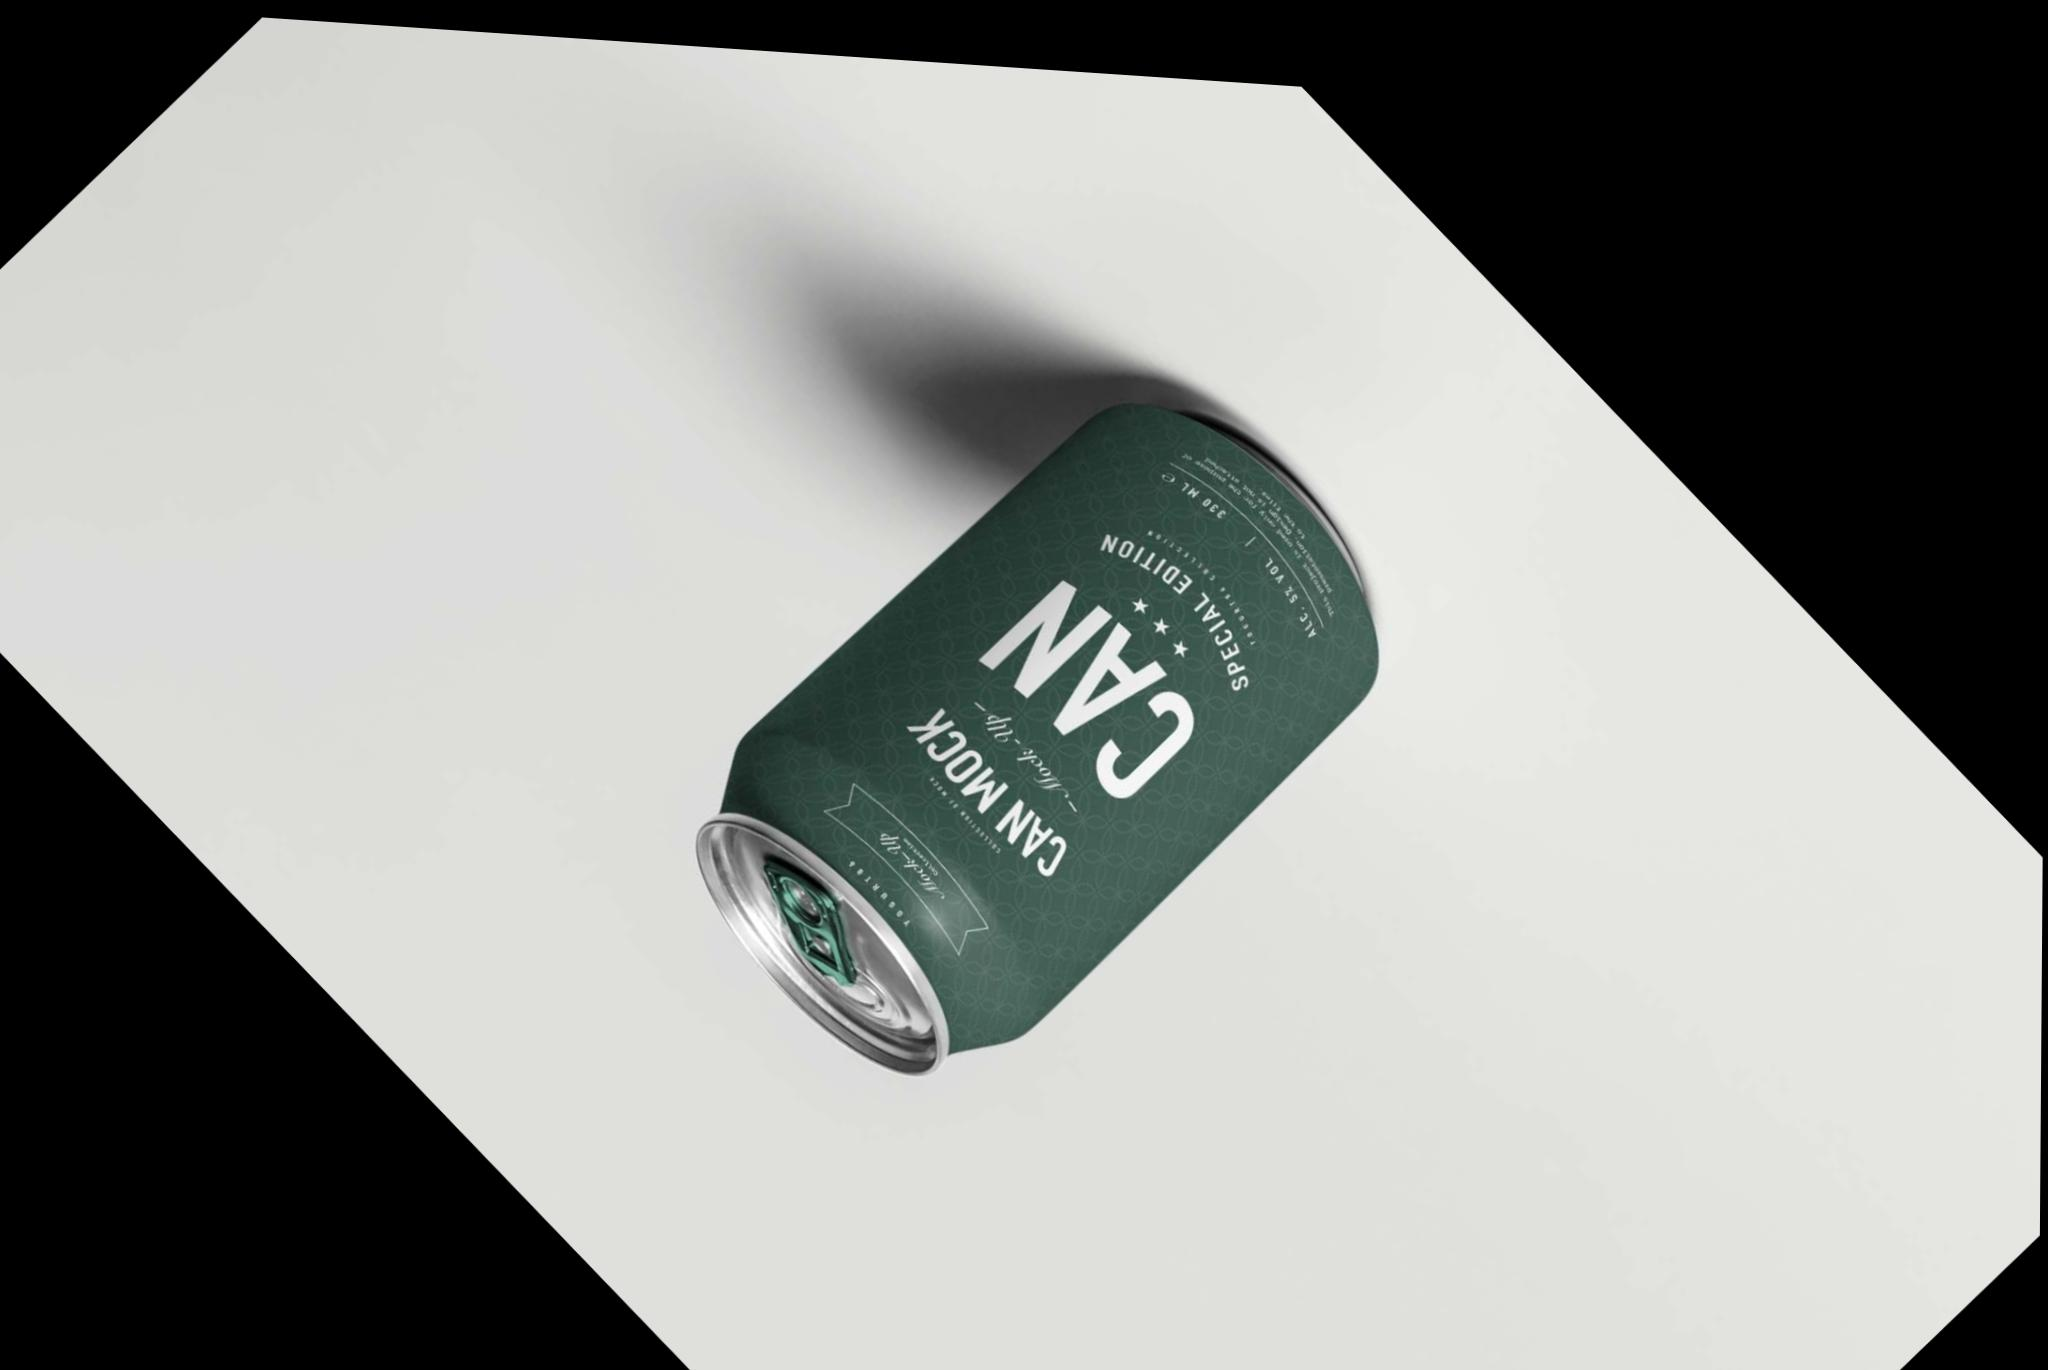metal: (695, 404, 1377, 1076)
